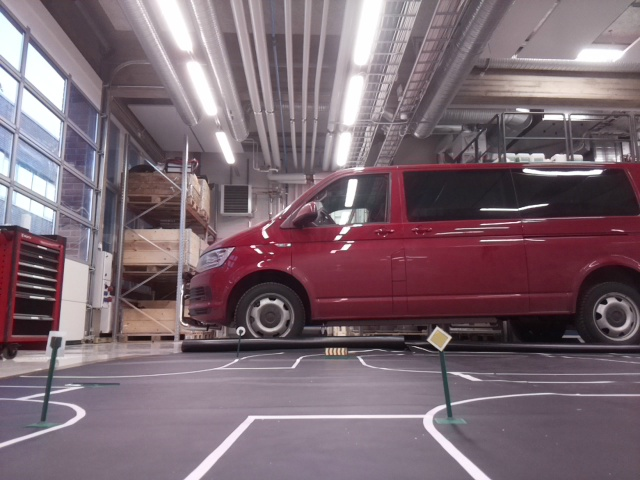Priority: (426, 326, 451, 349)
